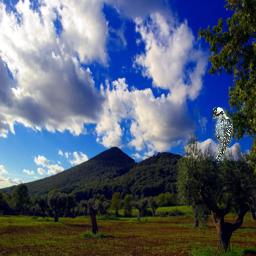Woodpecker: (212, 107, 233, 164)
